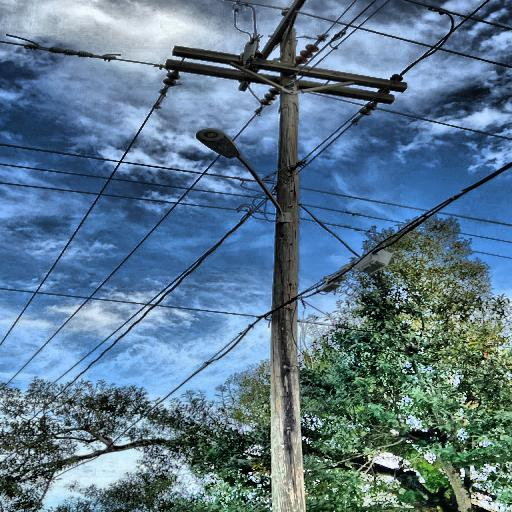pole: (268, 11, 322, 512)
street light: (192, 126, 296, 226)
